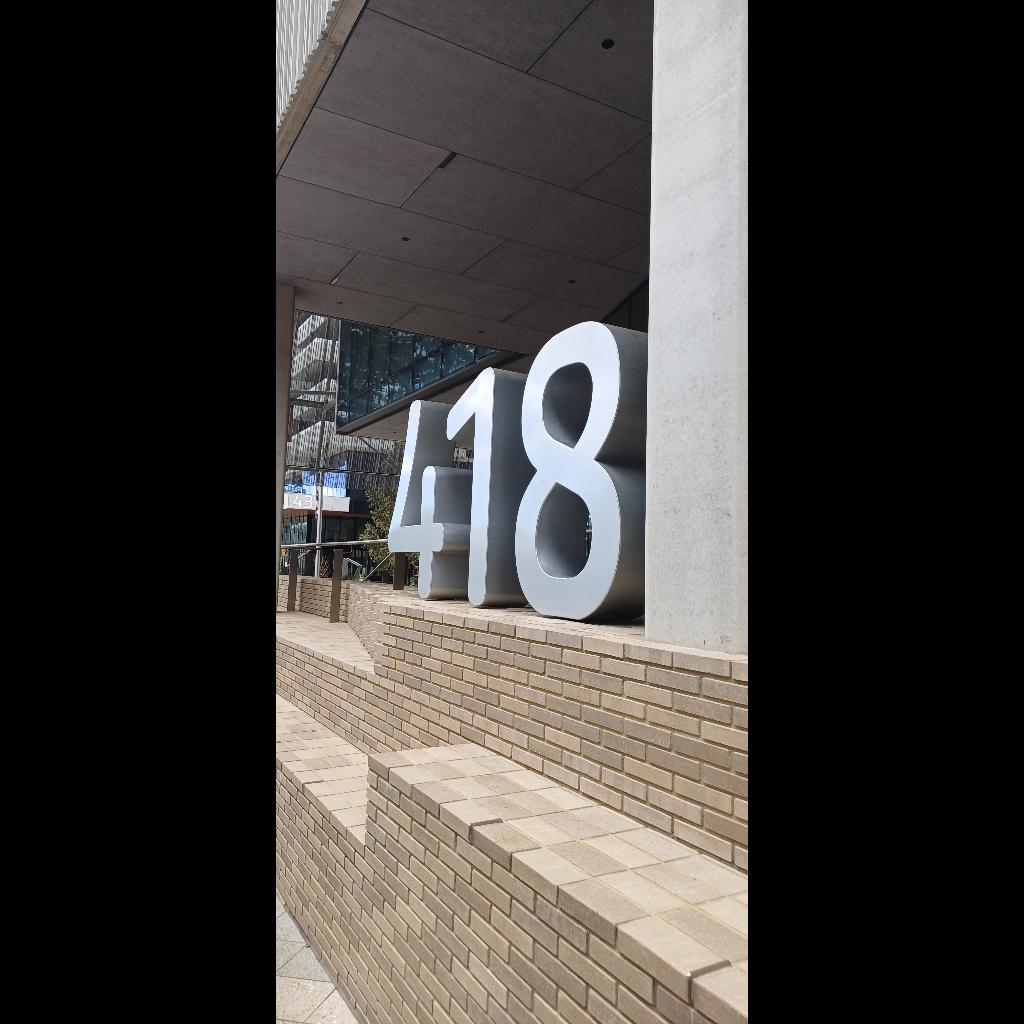BuildingCodes: (375, 322, 659, 626)
